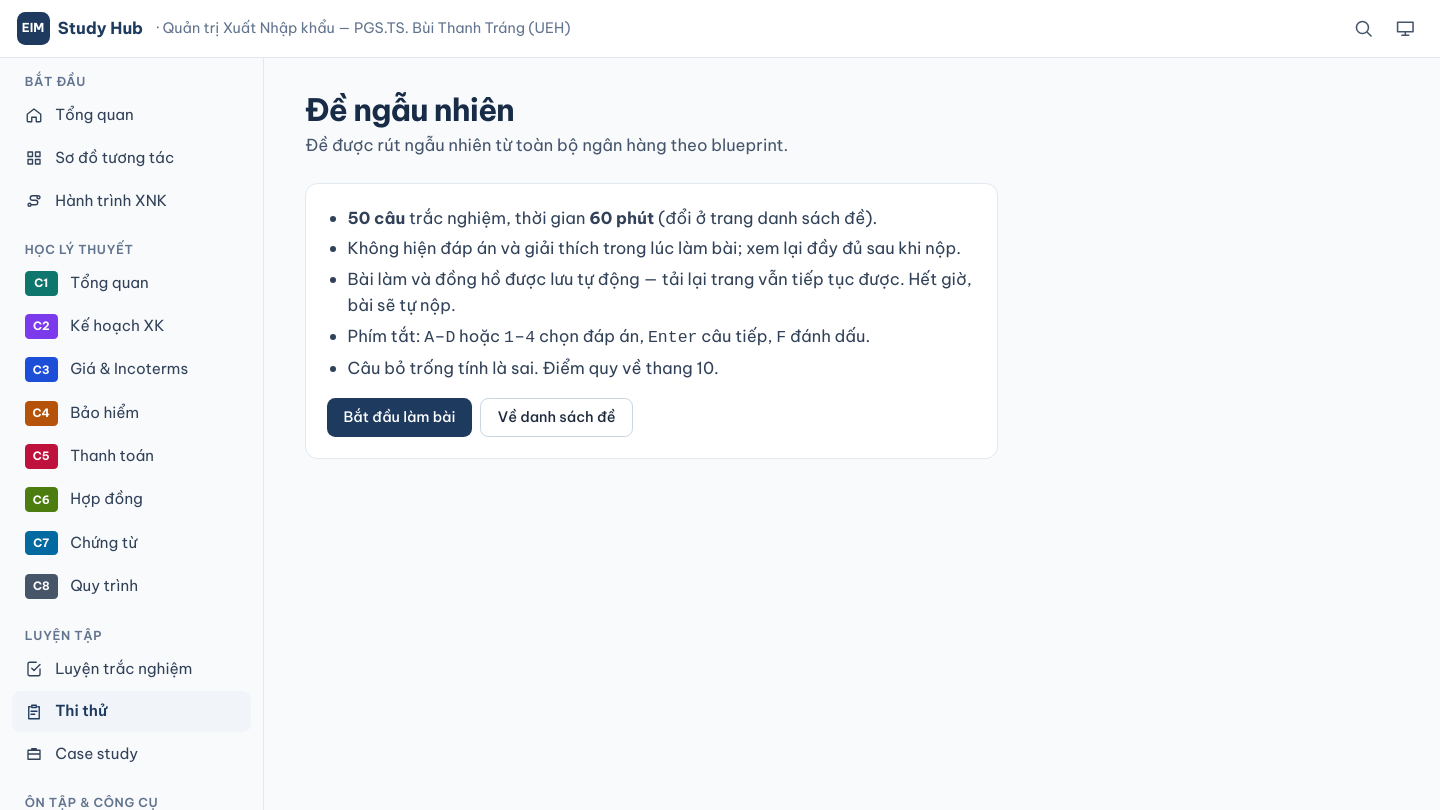
Scenario: mock exam flow › builds a blueprint random exam
This screenshot has width=1440, height=810.
Note: Building a random exam needs the whole bank, which loads after first paint.
Click the button "Bắt đầu làm bài".
click(400, 418)  # box [327,398,472,437]
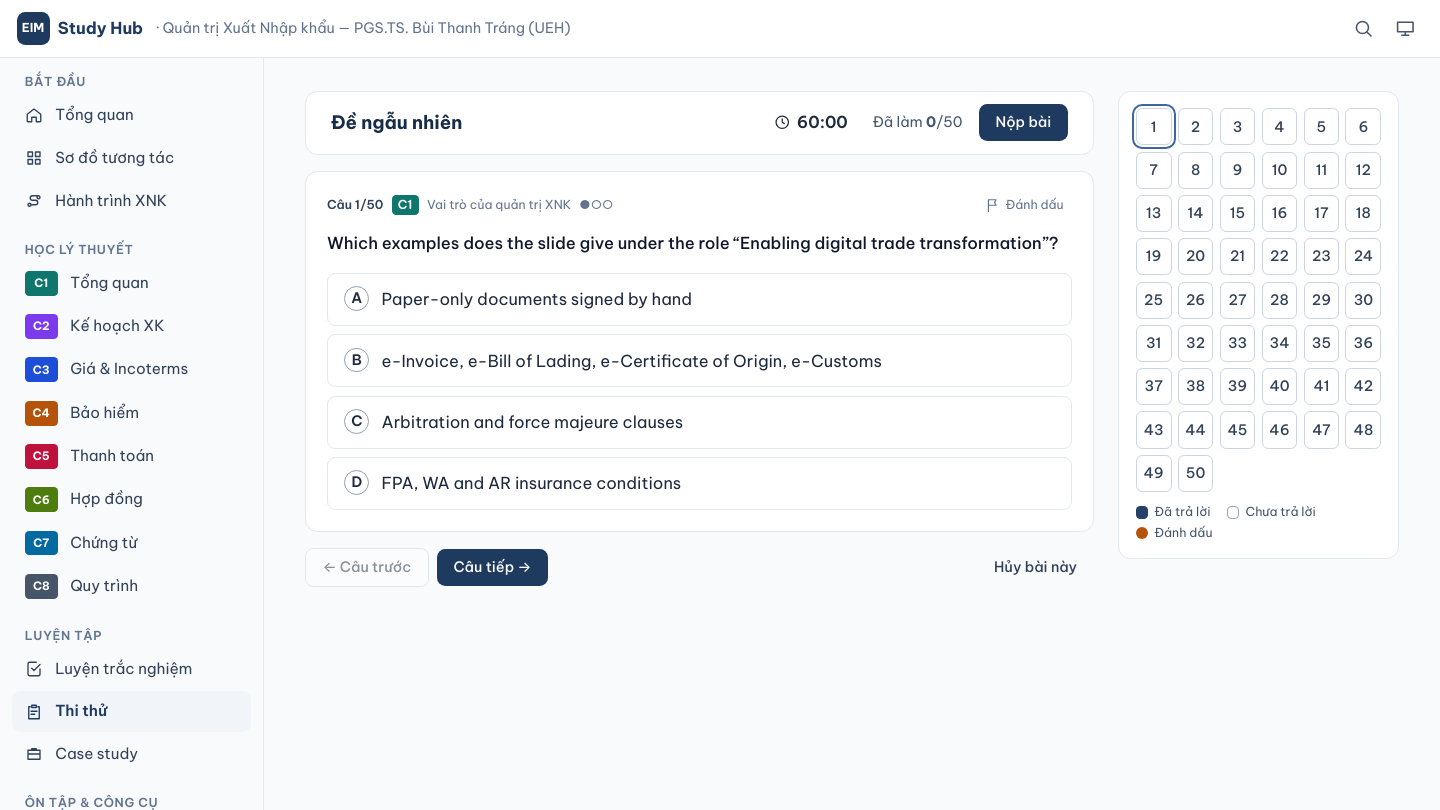
Expected: the element showing "60:00" is shown, [774,112,848,132]
